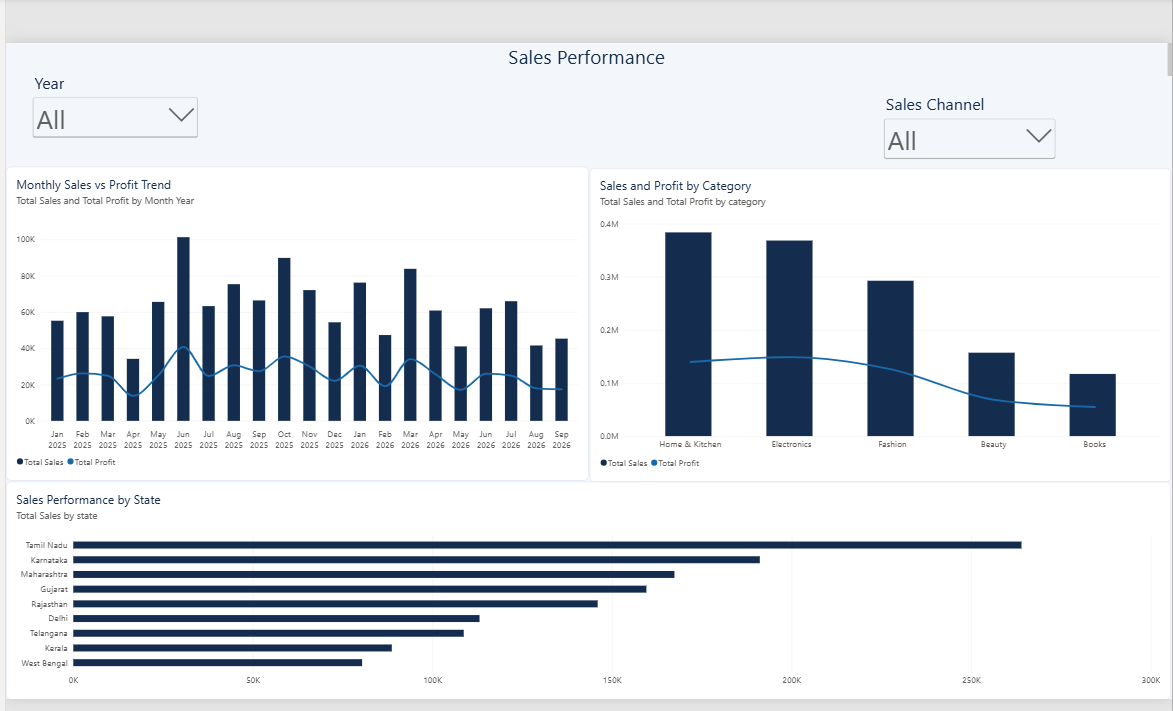

What the dashboard file says about the page in this screenshot:
{"tool":"powerbi","page":{"name":"Sales Performance","canvas":[1920,1080],"ordinal":1},"visuals":[{"type":"lineClusteredColumnComboChart","title":"Monthly Sales vs Profit Trend","fields":{"Category":["Orders.Month Year"],"Y":["Orderitems.Total Sales"],"Y2":["Orderitems.Total Profit"]},"box":[0,203.8,959.2,516.6],"z":0},{"type":"clusteredBarChart","title":"Sales Performance by State","fields":{"Category":["Customers.state"],"Y":["Orderitems.Total Sales"]},"box":[0,722.5,1918.4,358.1],"z":1000},{"type":"lineClusteredColumnComboChart","title":"Sales and Profit by Category","fields":{"Category":["Products.category"],"Y":["Orderitems.Total Sales"],"Y2":["Orderitems.Total Profit"]},"box":[961.2,205.8,957.1,516.6],"z":2000},{"type":"slicer","title":"Year","fields":{"Values":["Orders.order_date.Variation.Date Hierarchy.Year"]},"box":[39.1,47.3,282,158.5],"z":3000},{"type":"slicer","title":"Sales Channel","fields":{"Values":["Orders.sales_channel"]},"box":[1440.8,82.3,292.3,158.5],"z":4000},{"type":"textbox","box":[0,0,1920.4,65.9],"z":5000}]}

Visuals, with their boxes on the page's 1920x1080 design canvas (x1, y1, x2, y2). These are canvas units, not pixel positions in the 1173x711 screenshot, which may show the page scaled, cropped or inside an application window:
"Monthly Sales vs Profit Trend" lineClusteredColumnComboChart: box=[0, 204, 959, 720]
"Sales Performance by State" clusteredBarChart: box=[0, 722, 1918, 1081]
"Sales and Profit by Category" lineClusteredColumnComboChart: box=[961, 206, 1918, 722]
"Year" slicer: box=[39, 47, 321, 206]
"Sales Channel" slicer: box=[1441, 82, 1733, 241]
textbox: box=[0, 0, 1920, 66]
